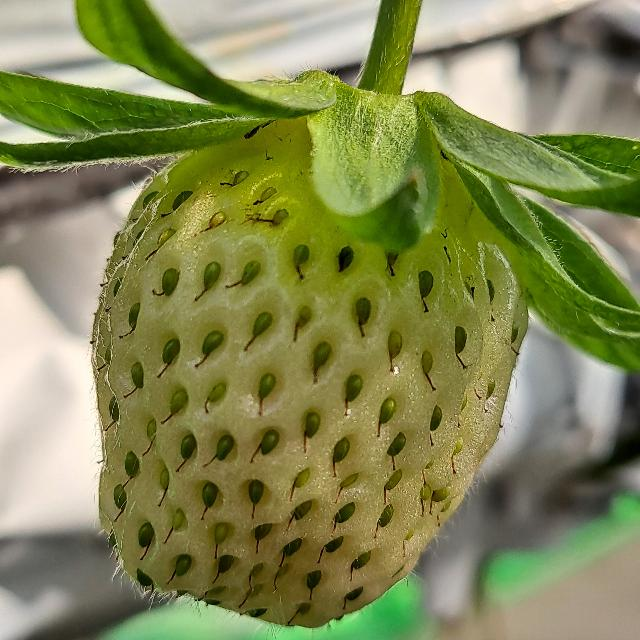Health_25: (91, 120, 528, 628)
